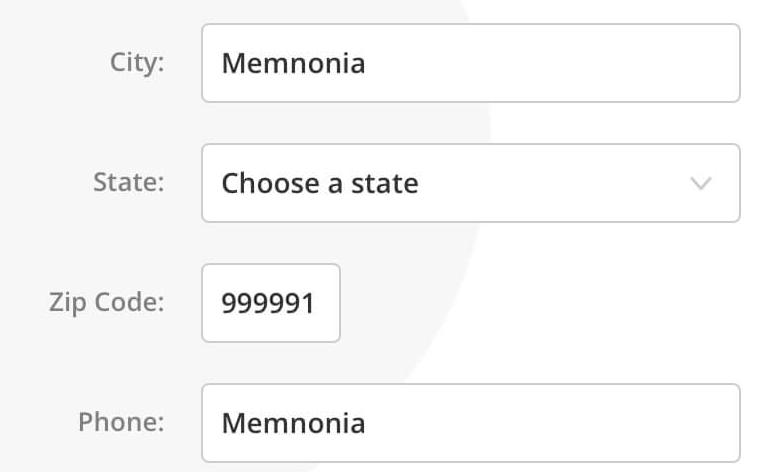field: (189, 382, 745, 463), (197, 22, 745, 103), (199, 145, 743, 224), (195, 261, 339, 345)
field_with_label: (81, 376, 752, 466), (95, 140, 750, 230), (111, 19, 749, 108), (50, 258, 347, 351)
